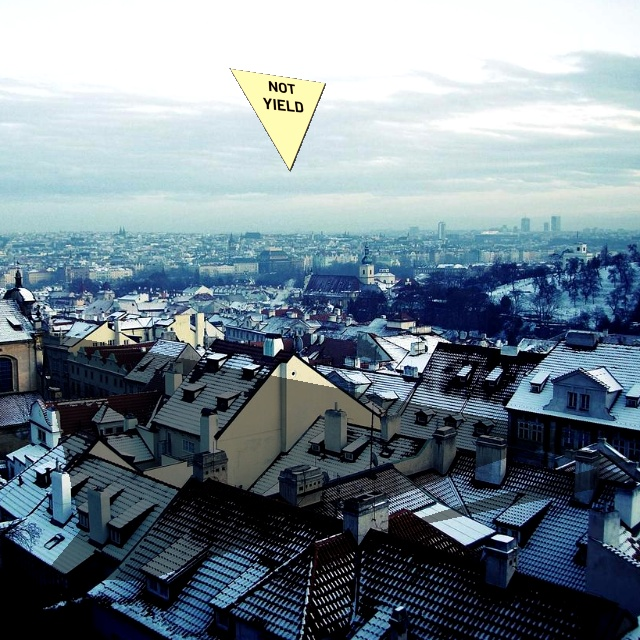NOT_YIELD: (229, 68, 326, 172)
